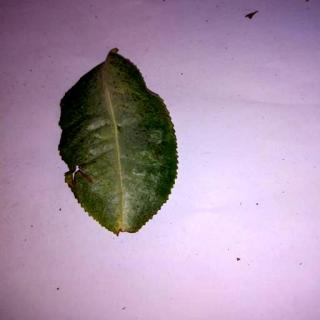Anthracnose: (58, 51, 180, 237)
